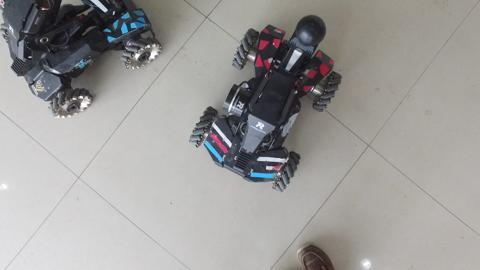chariot: (183, 13, 346, 197), (1, 1, 166, 121)
